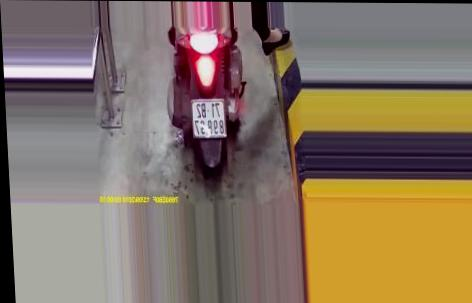License_Plate: (188, 95, 230, 140)
